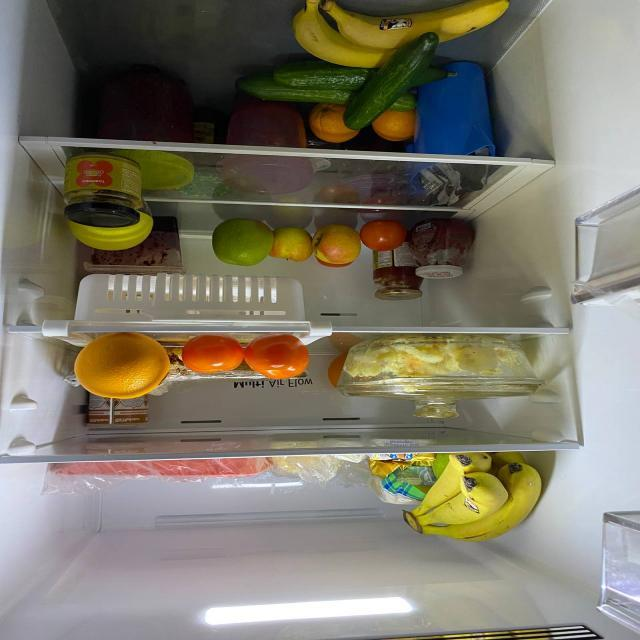Apple: (209, 218, 275, 268), (315, 225, 361, 264), (268, 227, 318, 262)
Banana: (298, 2, 501, 71), (400, 454, 544, 539)
Cucumber: (340, 33, 454, 137), (274, 64, 452, 88), (238, 86, 424, 104)
Orange: (74, 335, 168, 398), (372, 109, 422, 143), (310, 108, 352, 142), (322, 351, 347, 388)
Tomato: (241, 339, 307, 377), (182, 339, 248, 372), (363, 225, 409, 251), (316, 260, 351, 270)
